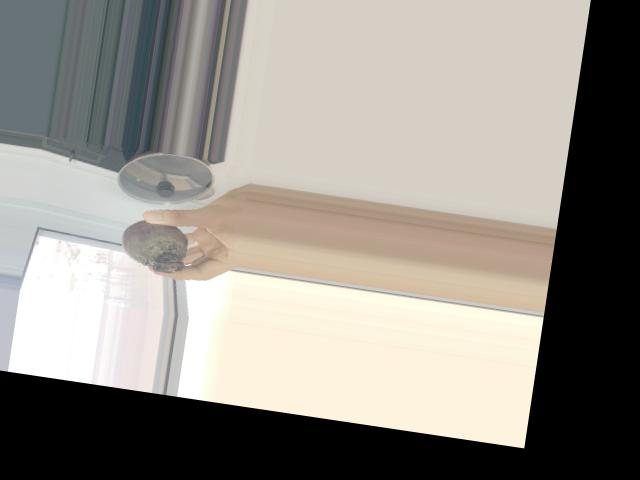beet: (117, 216, 209, 278)
